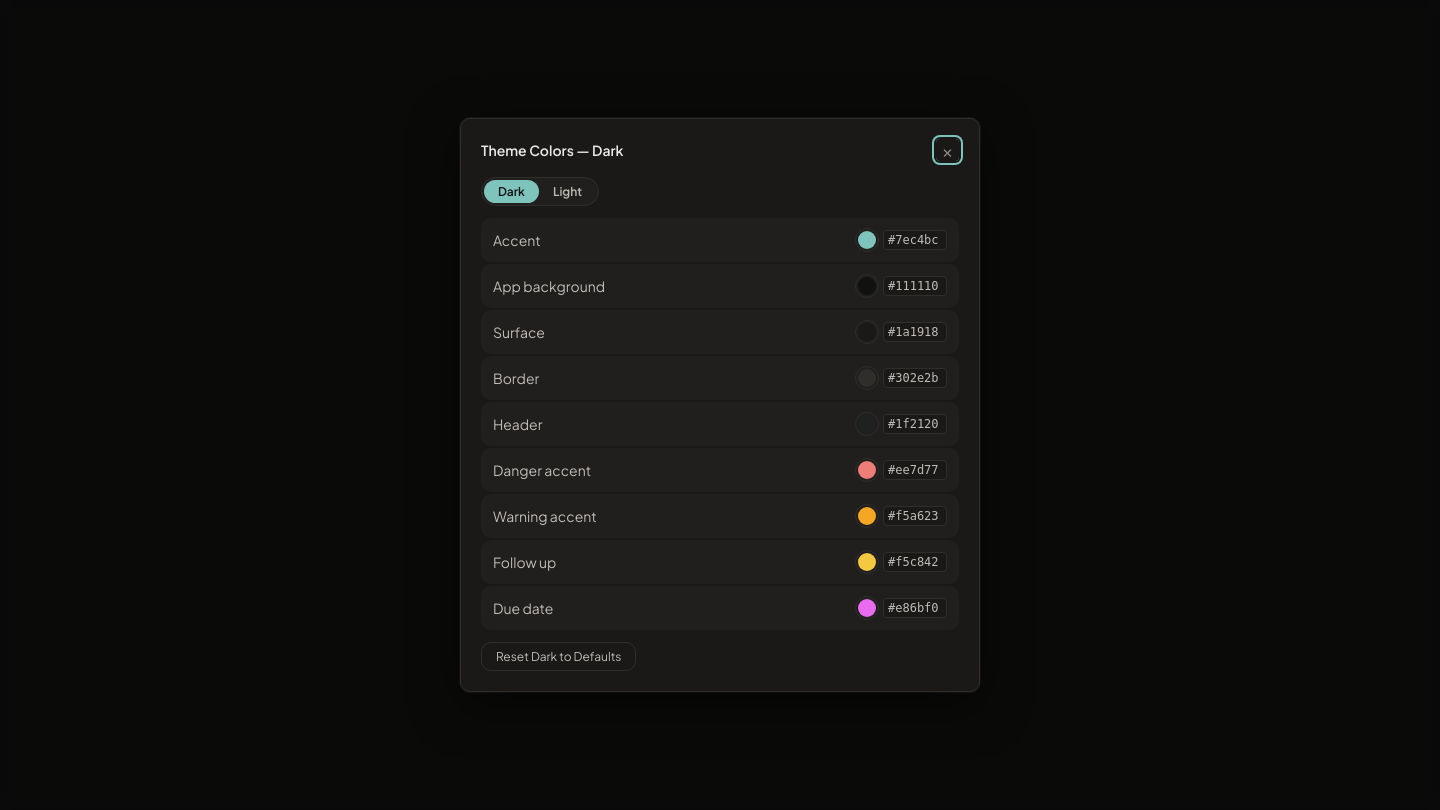
Test: ThemeColorsEditor › Light/Dark toggle binds the right working set
Expected: the 1st colour field showing "#7ec4bc" is shown, [855,228,879,252]
Click the tab "Light" at (568, 192), box [539,180,596,203]
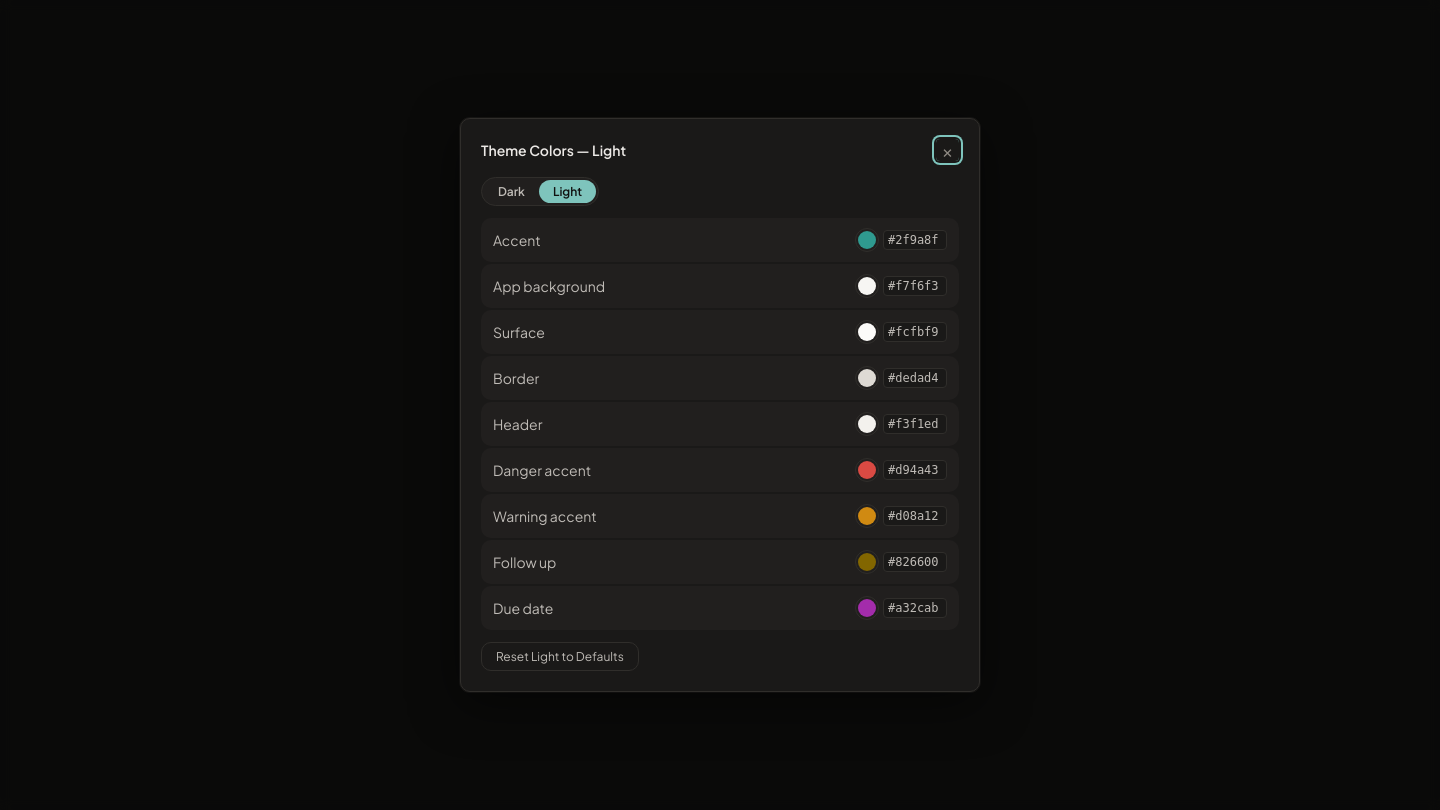
Expected: the 1st colour field showing "#2f9a8f" is shown, [855,228,879,252]
